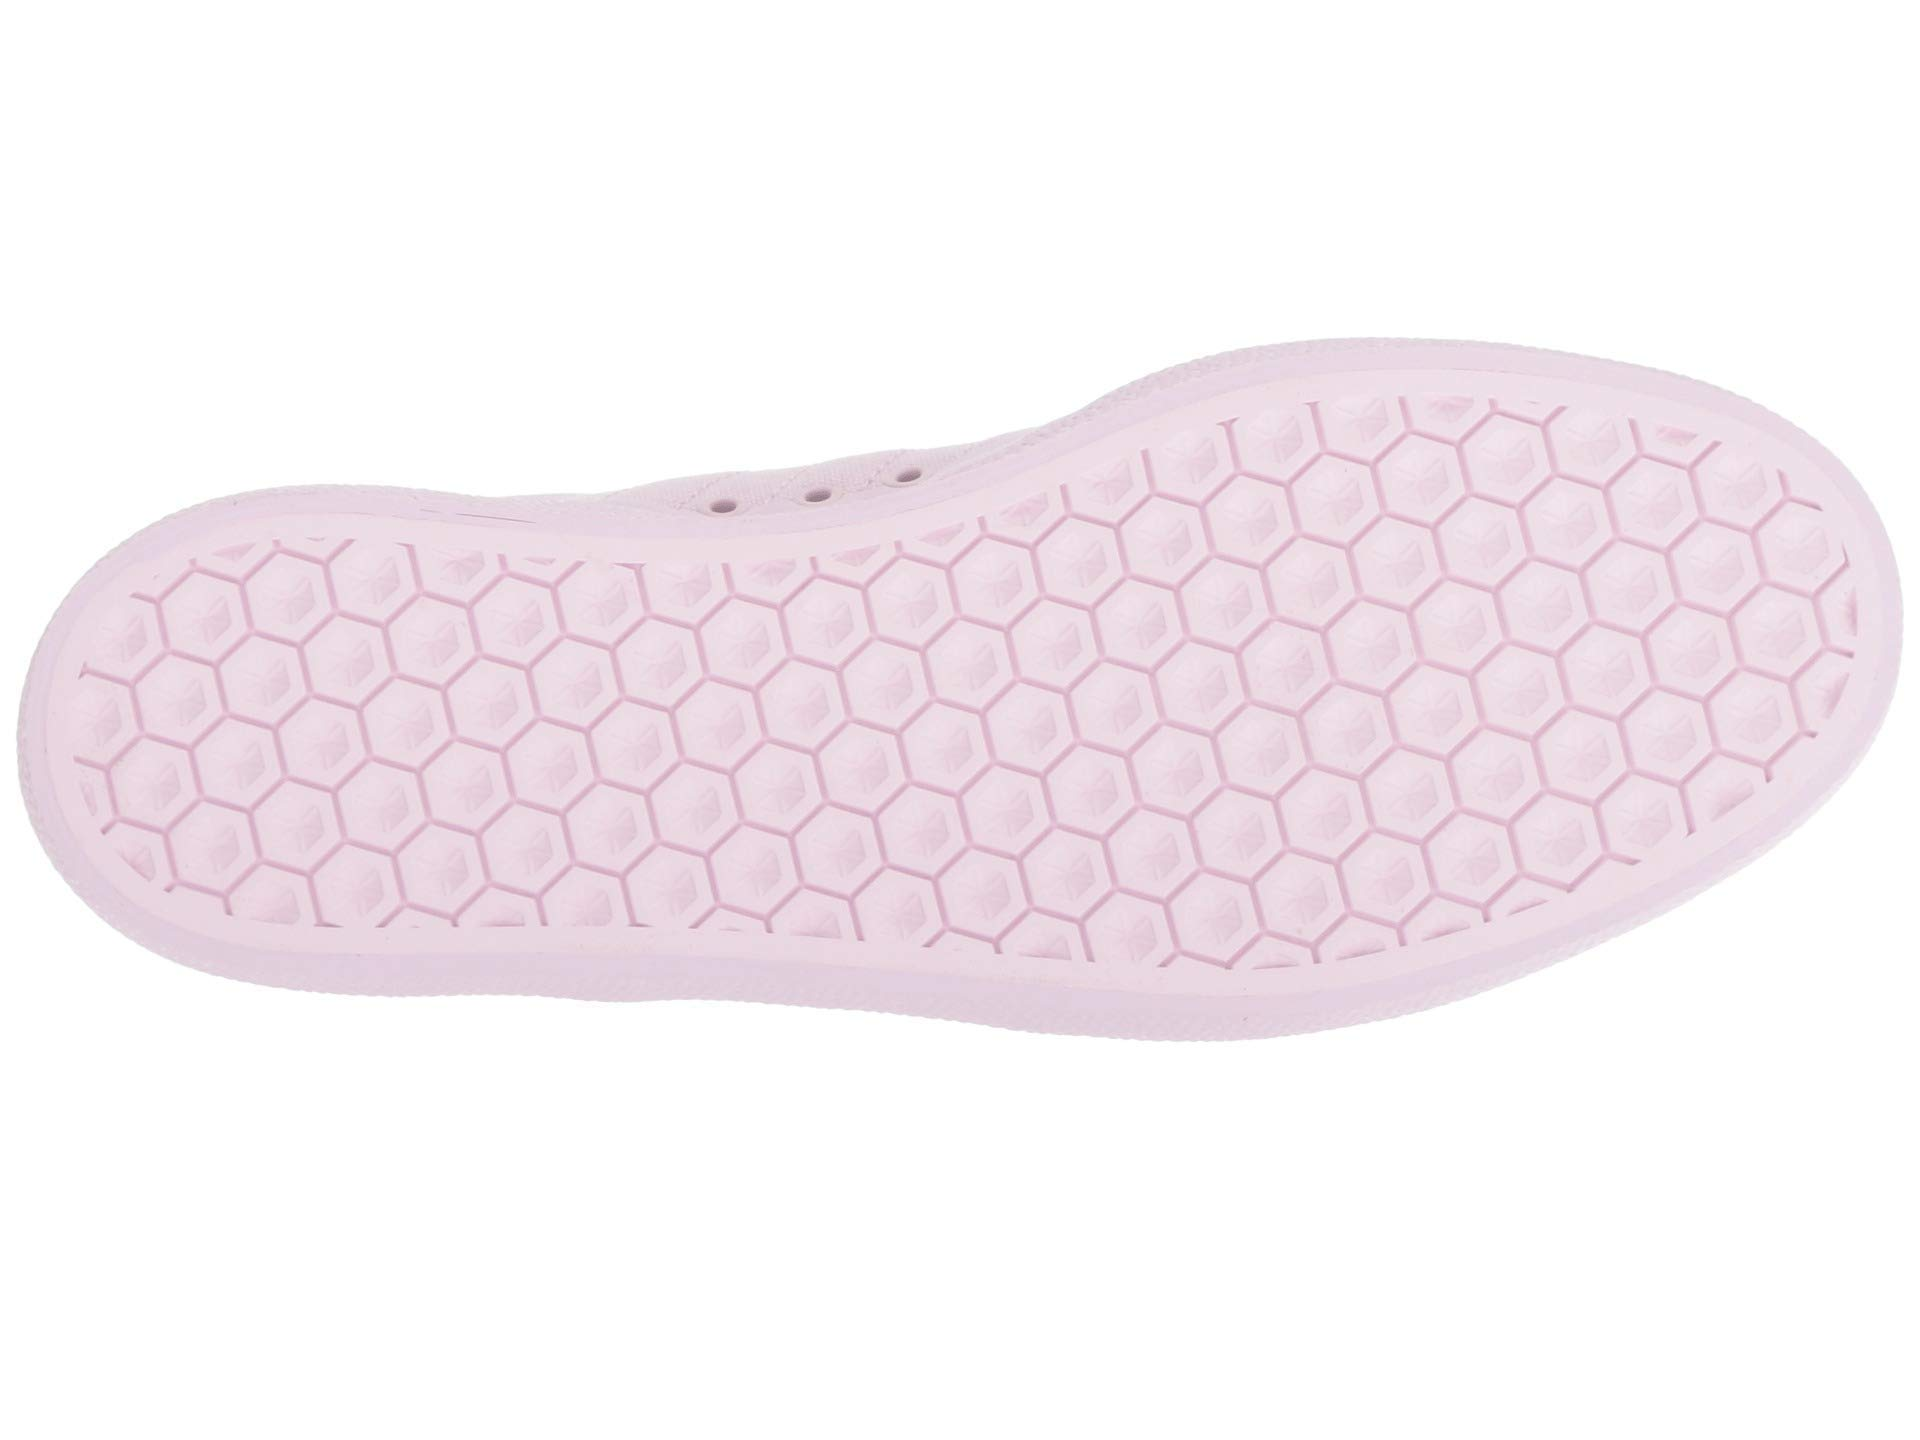circle: (745, 495, 1249, 1007), (1332, 433, 1749, 855), (133, 581, 509, 951), (537, 582, 782, 870)
polygon: (745, 495, 1249, 1007), (1332, 433, 1749, 855), (133, 581, 509, 951), (537, 582, 782, 870)
